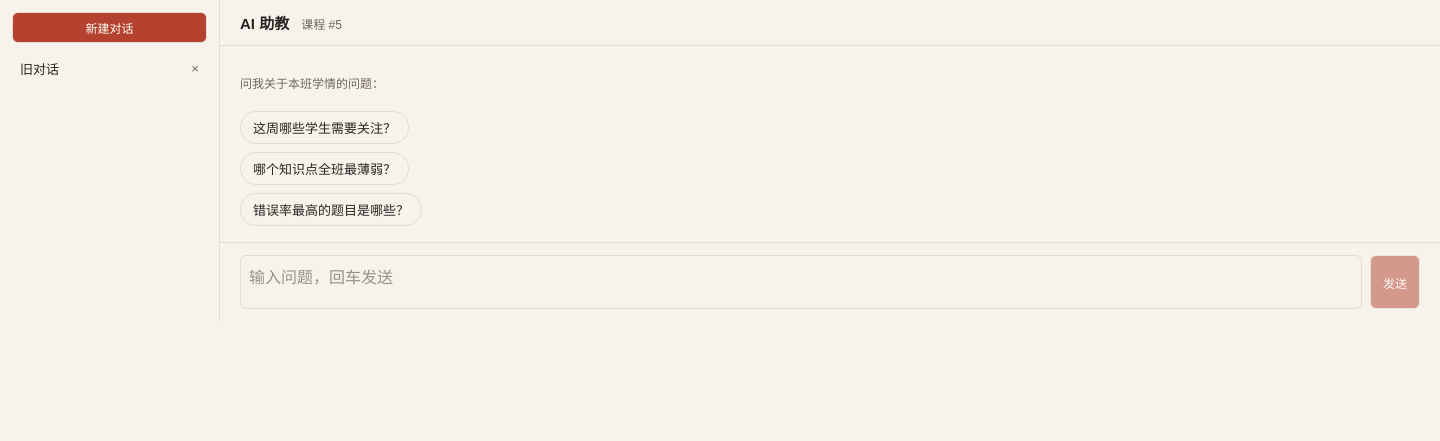
Scenario: TeacherAssistant › streams tool capsule, insight table and tokens from a starter
Click the button with test id "starter" showing "这周哪些学生需要关注？" at (324, 128), box [240,111,409,144]
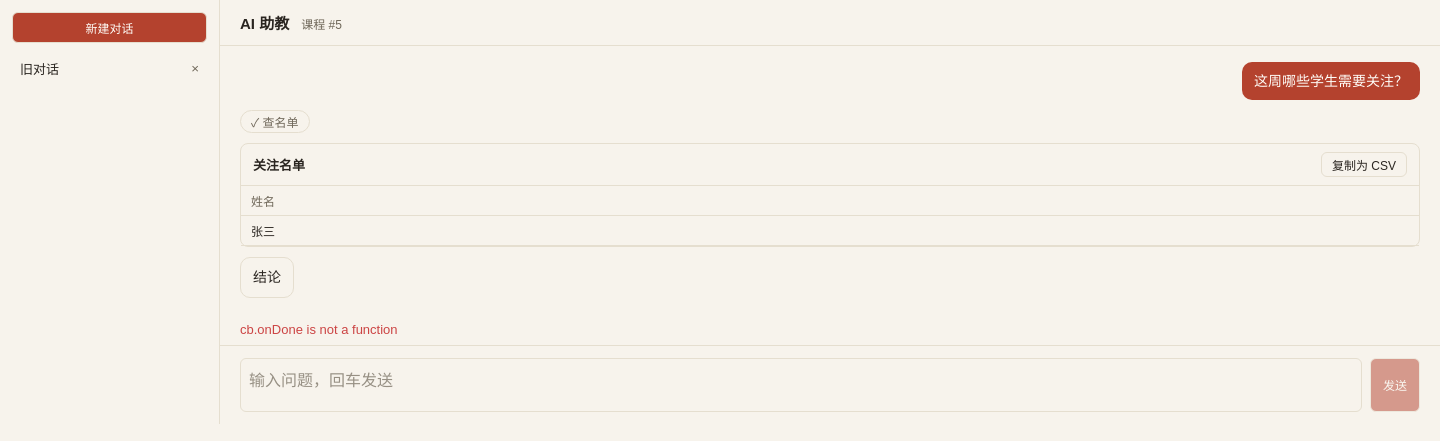
Expected: the element with test id "tool-capsule" shows "查名单", [259,116,298,130]
Expected: the element showing "关注名单 复制为 CSV 姓名 张三" is shown, [240,143,1420,247]
Expected: the text "张三" is shown, [241,216,1419,246]
